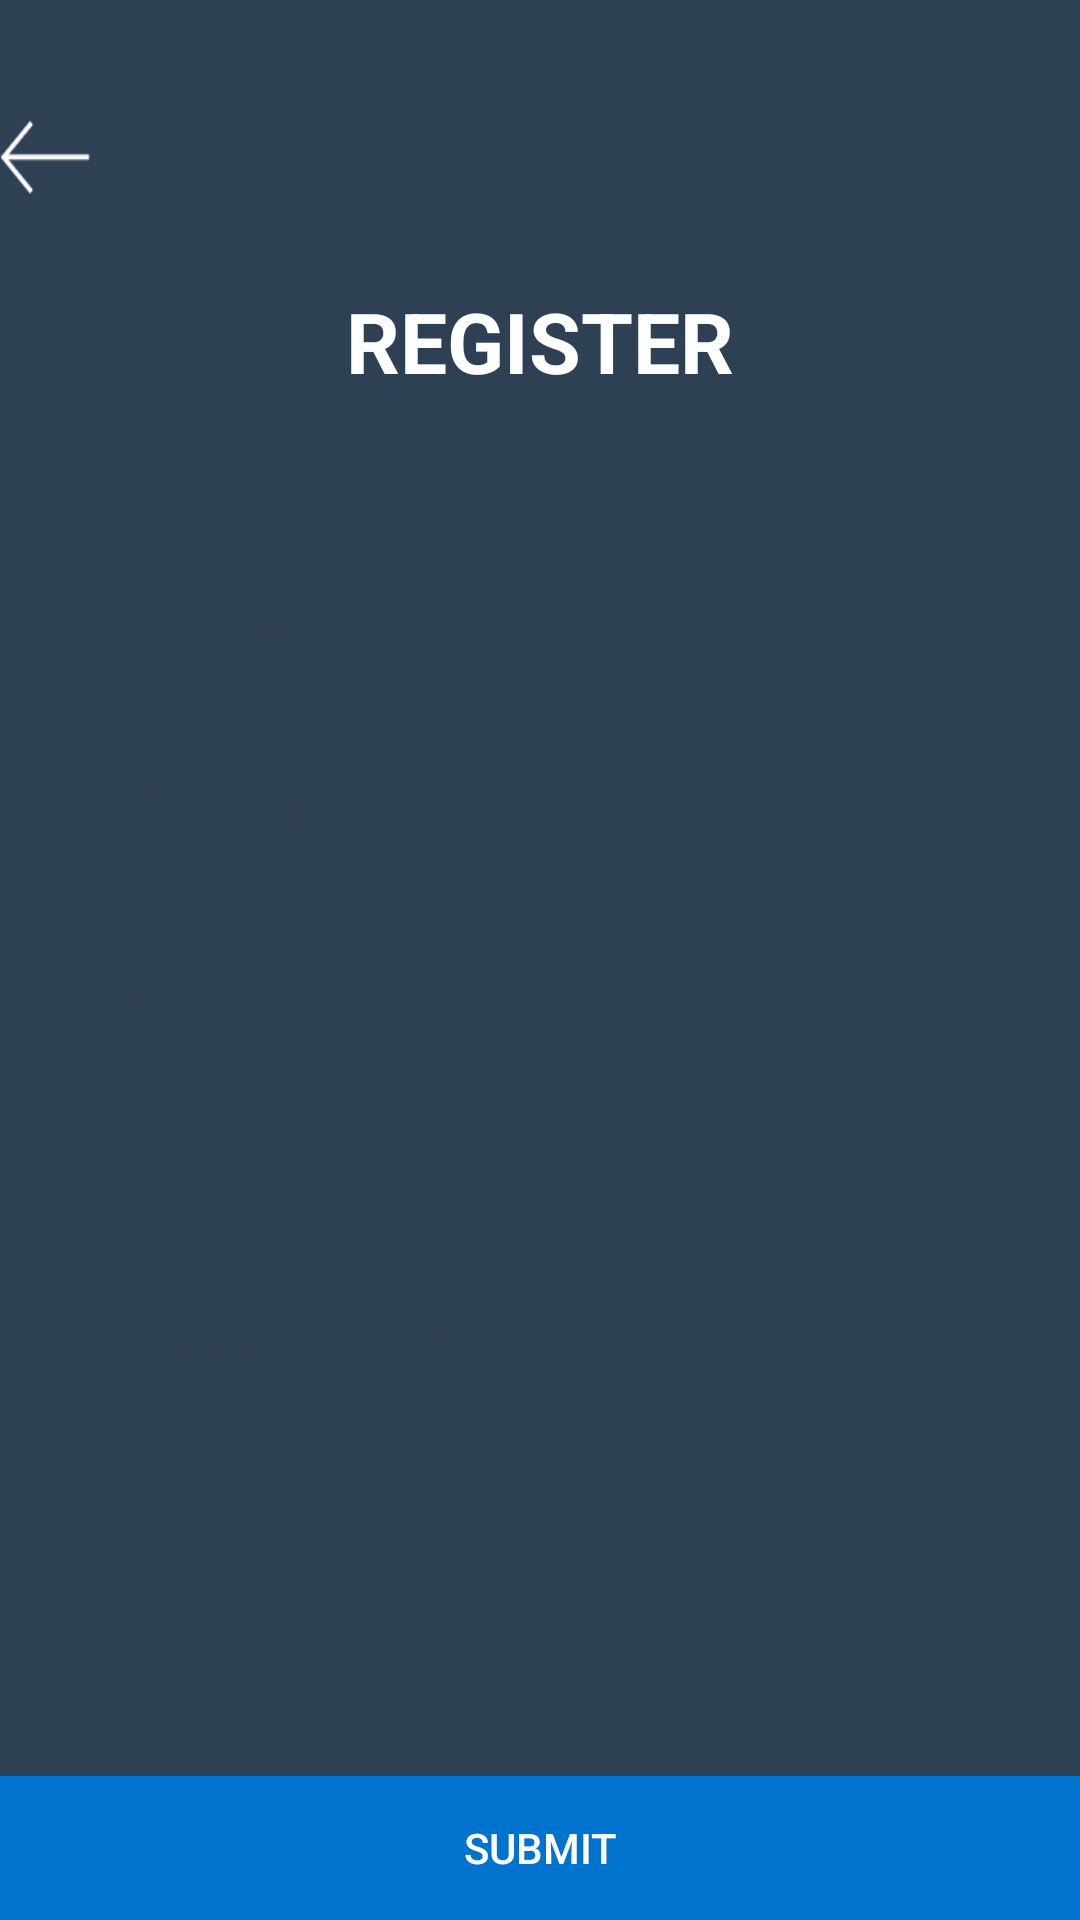

Icon bounding boxes for this 1080 × 1920 phone screenshot, format bbox=[x1, y1, x2, y2]:
back: bbox=[1, 121, 90, 194]
